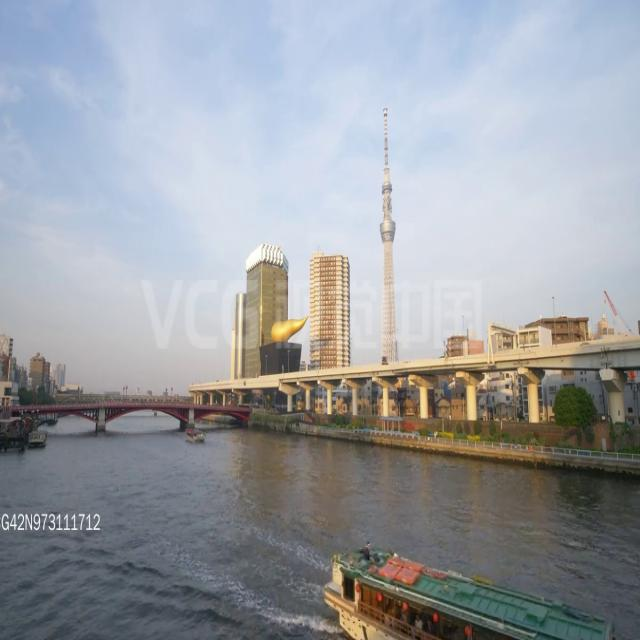passenger ship: (321, 538, 614, 640), (27, 420, 50, 454), (183, 425, 205, 447)
